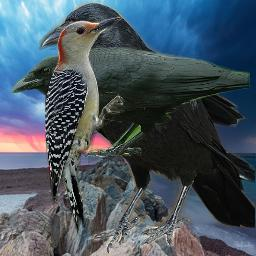Crow: (38, 1, 255, 253), (10, 47, 251, 160)
Woodpecker: (45, 12, 127, 243)
